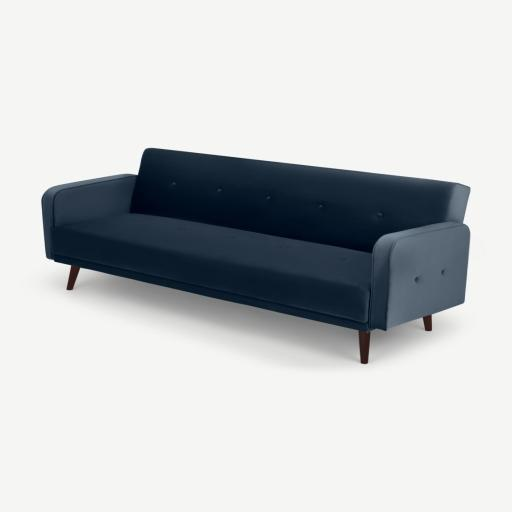back_cushion: (131, 149, 465, 252)
left_arm: (371, 222, 470, 330)
legs: (359, 331, 370, 363), (66, 266, 80, 290), (423, 315, 431, 331)
one-seater: (0, 0, 511, 512)
right_arm: (42, 174, 136, 258)
seat_cushion: (53, 214, 371, 322)
